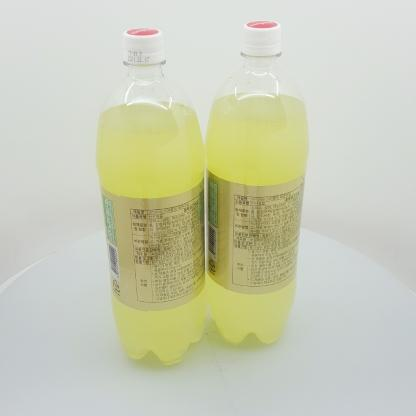----------------: (95, 28, 207, 365), (204, 21, 310, 345)
